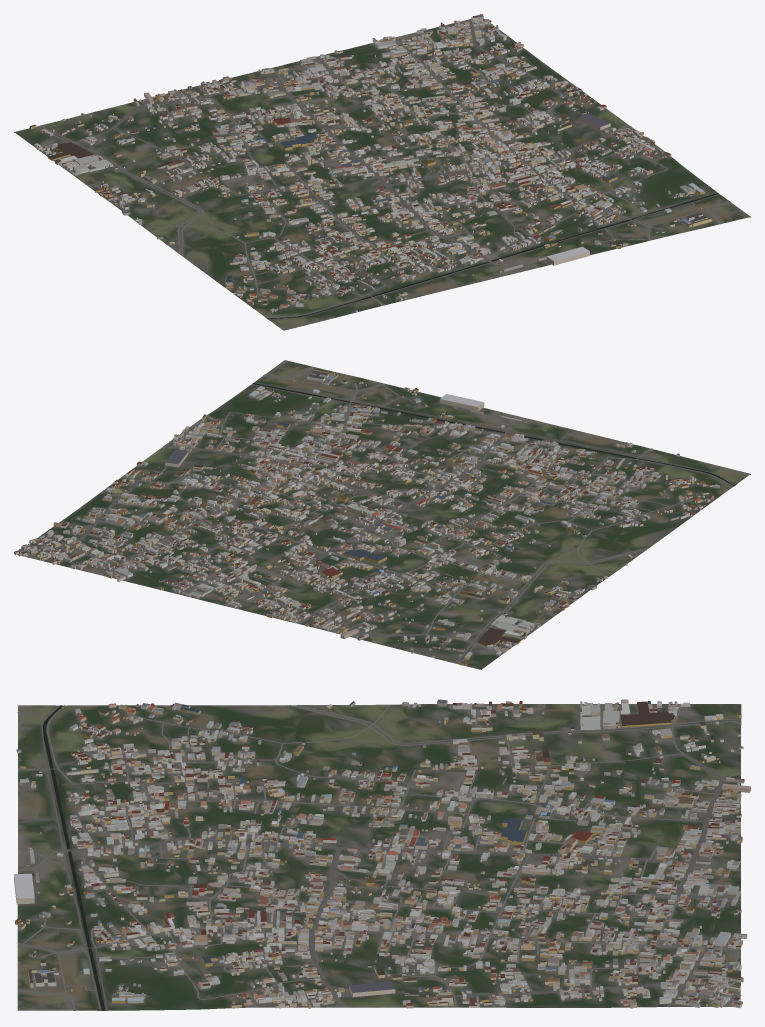
The picture shows the model from 3 angles, top to bottom: view 1: azimuth 30°, elevation 25°; view 2: azimuth 150°, elevation 25°; view 3: azimuth 270°, elevation 25°; orthographic projection. The views are drawn at different scales.
Parts seen in each view (by area): view 1: ground, buildings, roads, water; view 2: ground, buildings, roads, water; view 3: ground, buildings, roads, water.
Boxes of the visible parts, box(x1,y1,x2,y2) form: ground: box(14, 18, 750, 330); buildings: box(29, 14, 711, 312); roads: box(39, 19, 746, 328); water: box(267, 193, 719, 319); ground: box(17, 360, 750, 669); buildings: box(14, 368, 719, 665); roads: box(26, 361, 748, 663); water: box(252, 383, 734, 485); ground: box(17, 704, 741, 1010); buildings: box(14, 699, 750, 1008); roads: box(17, 704, 741, 1010); water: box(43, 705, 105, 1010).
Bounding box in the file's own units: 1413 × 25.15 × 1427.
